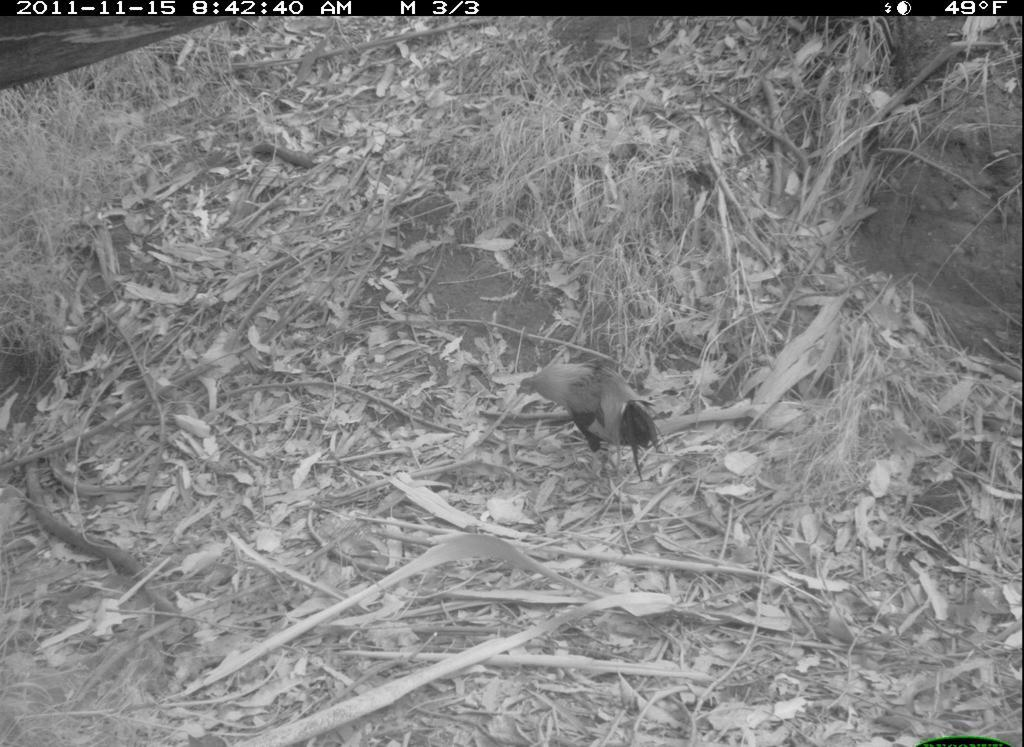bird: (513, 331, 684, 502)
